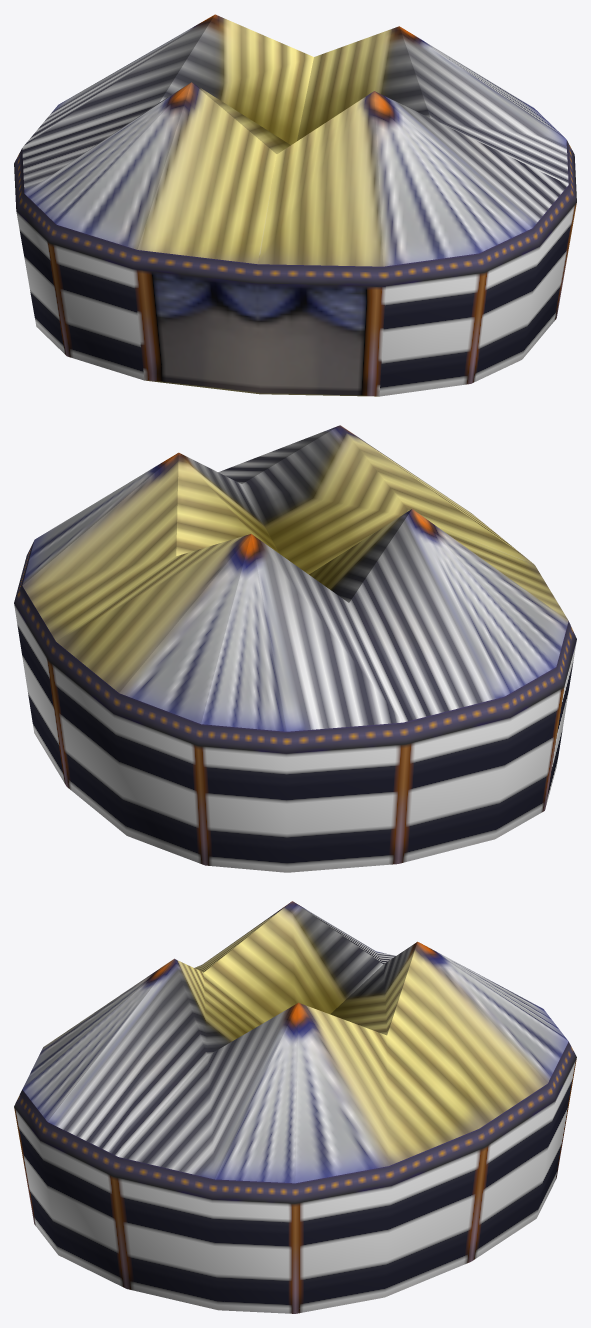
The model's file is CircusTen_Big.fbx.
3 views of the same model, one above another, from view 1: azimuth 30°, elevation 25°; view 2: azimuth 150°, elevation 25°; view 3: azimuth 270°, elevation 25° (orthographic). The views are drawn at different scales.
Parts seen in each view (by area): view 1: CircusTent_03; view 2: CircusTent_03; view 3: CircusTent_03.
Boxes of the visible parts, bbox=[...] form: CircusTent_03: bbox=[14, 14, 576, 396]; CircusTent_03: bbox=[14, 425, 576, 872]; CircusTent_03: bbox=[14, 901, 576, 1313].
Size of the model in its own units: 26.81 by 12.96 by 26.25.
